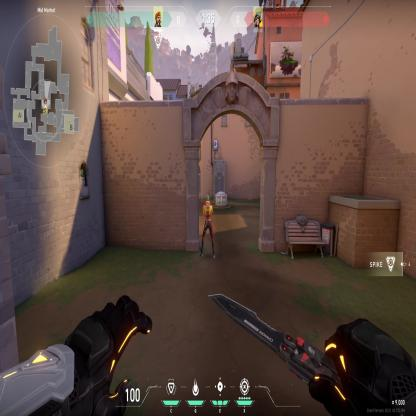enemy: (198, 192, 216, 263)
